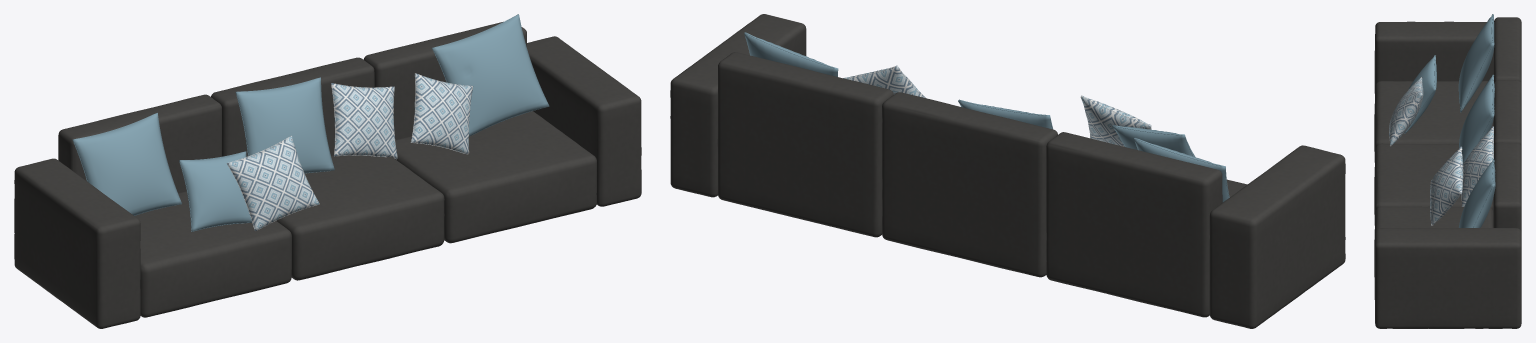
Rendered from stanza-modular-01.glb.
3 views of the same model, side by side, from view 1: azimuth 30°, elevation 25°; view 2: azimuth 150°, elevation 25°; view 3: azimuth 270°, elevation 25° (orthographic). The views are drawn at different scales.
Parts seen in each view (by area): view 1: seat_block_3, arm_l, seat_block_2, seat_block_1, arm_r, pillow_7_cover, pillow_1_cover, back_block_1, pillow_4_cover, pillow_3_cover, back_block_2, pillow_5_cover (+3 smaller); view 2: back_block_1, back_block_2, back_block_3, arm_l, arm_r, pillow_3_cover, pillow_7_cover, pillow_2_cover, pillow_6_cover, pillow_1_cover, pillow_4_cover; view 3: arm_r, arm_l, seat_block_2, seat_block_1, back_block_3, seat_block_3, back_block_1, back_block_2, pillow_1_cover, pillow_6_cover, pillow_4_cover, pillow_7_cover (+4 smaller).
Boxes of the visible parts, left/top/right/bottom form: seat_block_3: left=395, top=111, right=596, bottom=243; arm_l: left=14, top=158, right=140, bottom=328; seat_block_2: left=276, top=155, right=444, bottom=280; seat_block_1: left=135, top=191, right=291, bottom=317; arm_r: left=527, top=36, right=641, bottom=206; pillow_7_cover: left=432, top=14, right=549, bottom=136; pillow_1_cover: left=72, top=113, right=181, bottom=215; back_block_1: left=58, top=94, right=221, bottom=192; pillow_4_cover: left=235, top=77, right=334, bottom=173; pillow_3_cover: left=227, top=135, right=319, bottom=231; back_block_2: left=211, top=57, right=374, bottom=156; pillow_5_cover: left=331, top=83, right=397, bottom=158; back_block_1: left=1046, top=132, right=1222, bottom=317; back_block_2: left=882, top=92, right=1057, bottom=277; back_block_3: left=717, top=52, right=893, bottom=237; arm_l: left=1209, top=145, right=1345, bottom=328; arm_r: left=670, top=14, right=806, bottom=197; pillow_3_cover: left=1080, top=95, right=1151, bottom=146; pillow_7_cover: left=744, top=32, right=838, bottom=76; pillow_2_cover: left=1112, top=125, right=1195, bottom=157; pillow_6_cover: left=843, top=65, right=925, bottom=97; pillow_1_cover: left=1134, top=137, right=1229, bottom=202; pillow_4_cover: left=958, top=99, right=1053, bottom=129; arm_r: left=1374, top=228, right=1521, bottom=328; arm_l: left=1374, top=21, right=1493, bottom=93; seat_block_2: left=1374, top=143, right=1493, bottom=225; seat_block_1: left=1374, top=81, right=1493, bottom=162; back_block_3: left=1493, top=142, right=1521, bottom=232; seat_block_3: left=1374, top=206, right=1493, bottom=276; back_block_1: left=1493, top=17, right=1521, bottom=123; back_block_2: left=1493, top=80, right=1521, bottom=158; pillow_1_cover: left=1458, top=14, right=1494, bottom=112; pillow_6_cover: left=1430, top=146, right=1463, bottom=225; pillow_4_cover: left=1459, top=75, right=1494, bottom=164; pillow_7_cover: left=1459, top=159, right=1495, bottom=227.
Bounding box in the file's own units: 4.25 × 1.1 × 1.18.
Materials: 5 (2 with a texture image).
